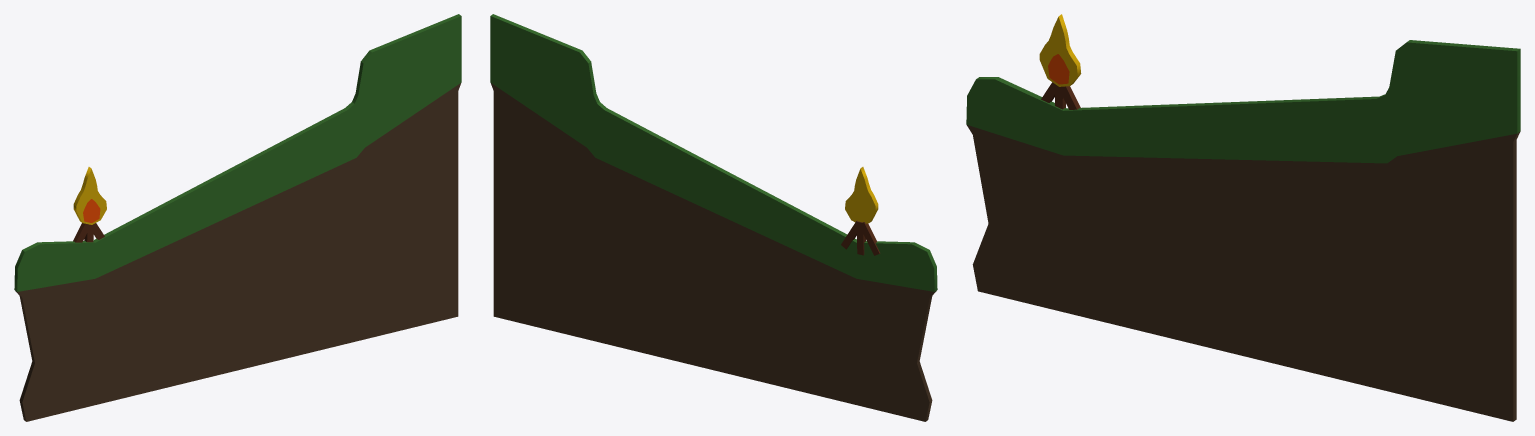
The model's file is ProtoCliffwithFire1.fbx.
3 renders of one model, left to right at view 1: azimuth 30°, elevation 25°; view 2: azimuth 150°, elevation 25°; view 3: azimuth 330°, elevation 25°, orthographic. The views are drawn at different scales.
Visible parts, largest first — view 1: Land1, Flame; view 2: Land1, Flame; view 3: Land1, Flame.
Part boxes in pixels (x1=…): Land1: x1=14, y1=14, x2=461, y2=421; Flame: x1=73, y1=167, x2=106, y2=224; Land1: x1=490, y1=14, x2=937, y2=421; Flame: x1=845, y1=167, x2=878, y2=223; Land1: x1=966, y1=40, x2=1520, y2=421; Flame: x1=1039, y1=14, x2=1081, y2=86.
Size of the model in its own units: 227 by 146 by 3.03.
